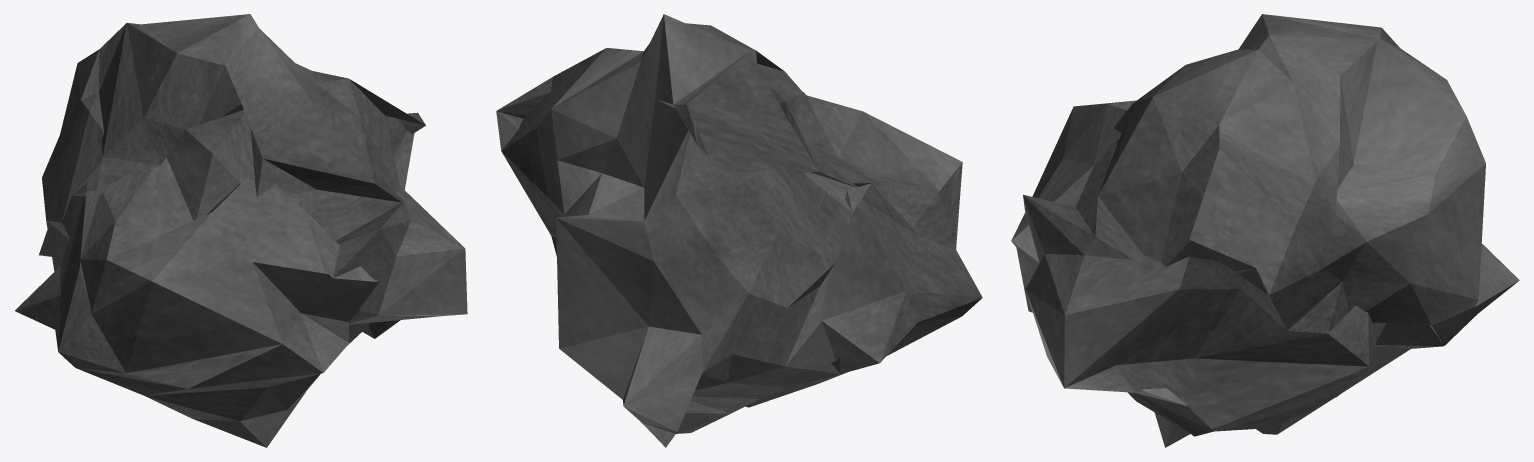
The model's file is Asteroid2.obj.
3 renders of one model, left to right at view 1: azimuth 30°, elevation 25°; view 2: azimuth 150°, elevation 25°; view 3: azimuth 270°, elevation 25°, orthographic. The views are drawn at different scales.
Visible parts, largest first — view 1: Icosphere; view 2: Icosphere; view 3: Icosphere.
Boxes of the visible parts, left/top/right/bottom form: Icosphere: left=15, top=14, right=467, bottom=447; Icosphere: left=496, top=14, right=982, bottom=447; Icosphere: left=1011, top=14, right=1519, bottom=447.
Size of the model in its own units: 2.27 by 2.1 by 2.25.
